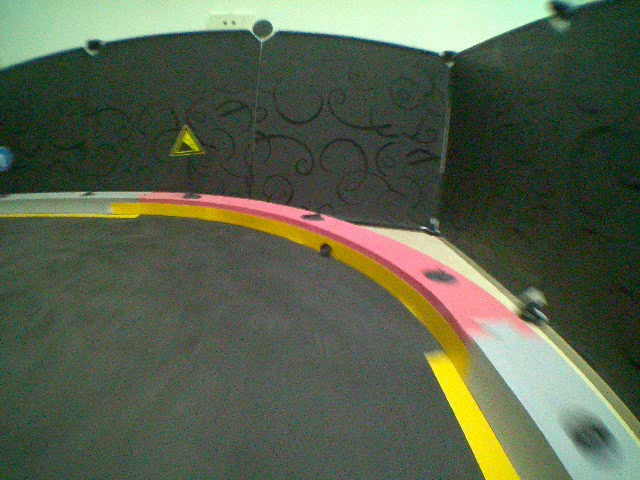fast: (165, 123, 209, 159)
